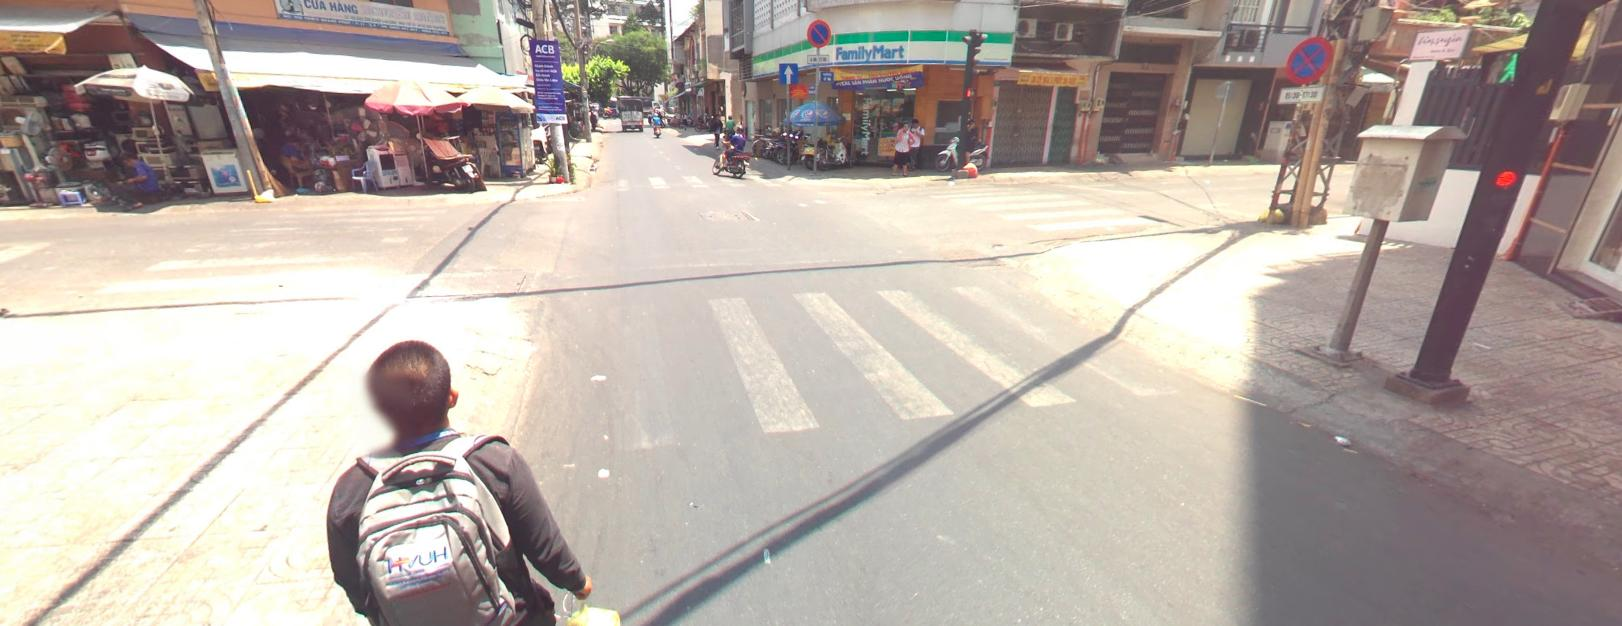Cam dung va do: (1285, 35, 1333, 85), (806, 18, 831, 48)
